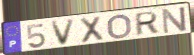5: (26, 22, 48, 50)
N: (161, 6, 189, 36)
O: (107, 13, 133, 40)
R: (134, 10, 160, 37)
V: (49, 17, 77, 47)
X: (78, 15, 105, 45)
